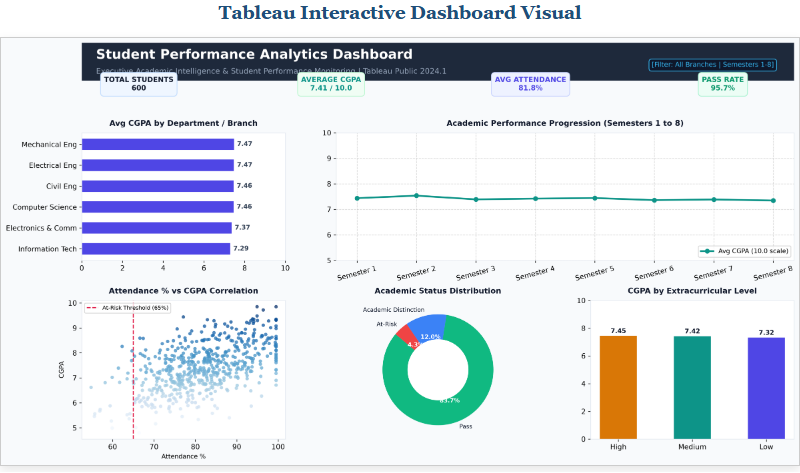

What the dashboard file says about the page in this screenshot:
{"tool":"tableau","page":{"name":"Student Performance Dashboard","canvas":[1920,1080],"ordinal":0},"visuals":[{"type":"worksheet","box":[0,0,1920,1080]},{"type":"worksheet","title":"Title","box":[0,0,1920,97.2]},{"type":"worksheet","box":[0,97.2,1920,172.8]},{"type":"worksheet","title":"KPI_Total_Students","box":[0,97.2,480,172.8]},{"type":"worksheet","title":"KPI_Avg_CGPA","box":[480,97.2,480,172.8]},{"type":"worksheet","title":"KPI_Avg_Attendance","box":[960,97.2,480,172.8]},{"type":"worksheet","title":"KPI_Pass_Rate","box":[1440,97.2,480,172.8]},{"type":"worksheet","box":[0,270,1920,399.6]},{"type":"worksheet","title":"Bar_Branch_CGPA","box":[0,270,960,399.6]},{"type":"worksheet","title":"Line_Semester_Trend","box":[960,270,960,399.6]},{"type":"worksheet","box":[0,669.6,1920,410.4]},{"type":"worksheet","title":"Scatter_Attendance_vs_CGPA","box":[0,669.6,640,410.4]},{"type":"worksheet","title":"Donut_Grade_Distribution","box":[640,669.6,640,410.4]},{"type":"worksheet","title":"Stacked_StudyHours_Performance","box":[1280,669.6,640,410.4]}]}

Visuals, with their boxes on the page's 1920x1080 design canvas (x1, y1, x2, y2). These are canvas units, not pixel positions in the 800x473 screenshot, which may show the page scaled, cropped or inside an application window:
worksheet: (left=0, top=0, right=1920, bottom=1080)
"Title" worksheet: (left=0, top=0, right=1920, bottom=97)
worksheet: (left=0, top=97, right=1920, bottom=270)
"KPI_Total_Students" worksheet: (left=0, top=97, right=480, bottom=270)
"KPI_Avg_CGPA" worksheet: (left=480, top=97, right=960, bottom=270)
"KPI_Avg_Attendance" worksheet: (left=960, top=97, right=1440, bottom=270)
"KPI_Pass_Rate" worksheet: (left=1440, top=97, right=1920, bottom=270)
worksheet: (left=0, top=270, right=1920, bottom=670)
"Bar_Branch_CGPA" worksheet: (left=0, top=270, right=960, bottom=670)
"Line_Semester_Trend" worksheet: (left=960, top=270, right=1920, bottom=670)
worksheet: (left=0, top=670, right=1920, bottom=1080)
"Scatter_Attendance_vs_CGPA" worksheet: (left=0, top=670, right=640, bottom=1080)
"Donut_Grade_Distribution" worksheet: (left=640, top=670, right=1280, bottom=1080)
"Stacked_StudyHours_Performance" worksheet: (left=1280, top=670, right=1920, bottom=1080)
